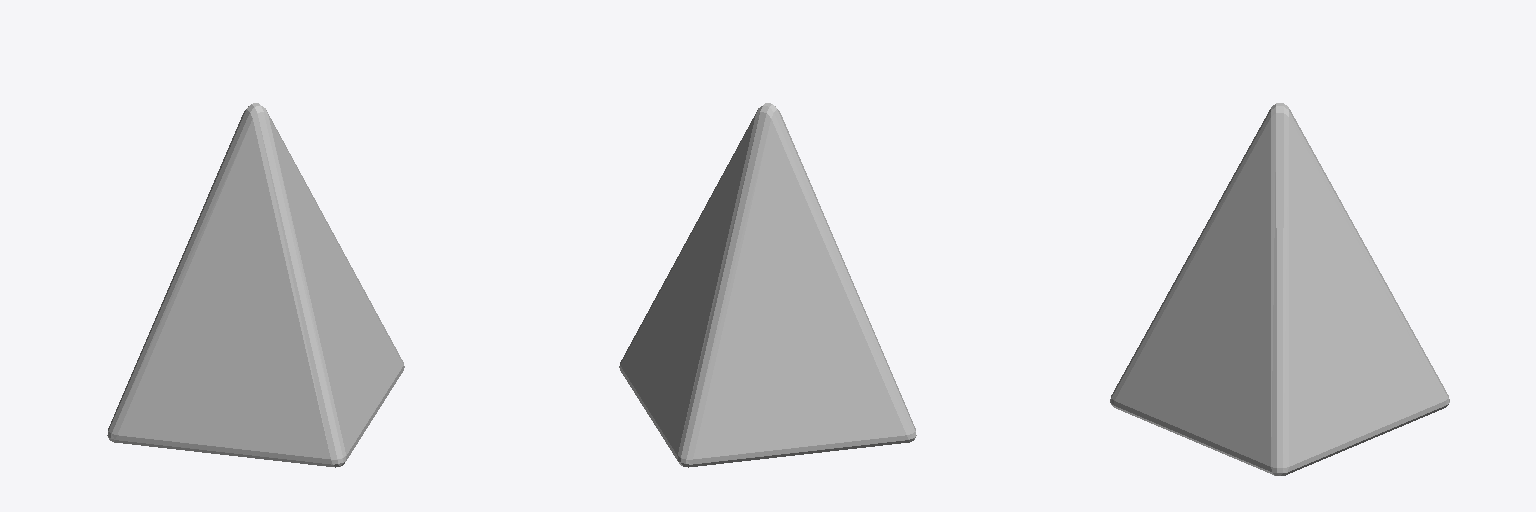
Rendered from Wood_Block_3.obj.
The picture shows the model from 3 angles: view 1: azimuth 30°, elevation 25°; view 2: azimuth 150°, elevation 25°; view 3: azimuth 270°, elevation 25°; orthographic projection.
Visible parts, largest first — view 1: pCone1; view 2: pCone1; view 3: pCone1.
Part boxes in pixels (x1,y1,x2,y2): pCone1: (107, 103, 404, 467); pCone1: (619, 103, 916, 467); pCone1: (1110, 103, 1449, 475).
Size of the model in its own units: 566 by 557 by 566.